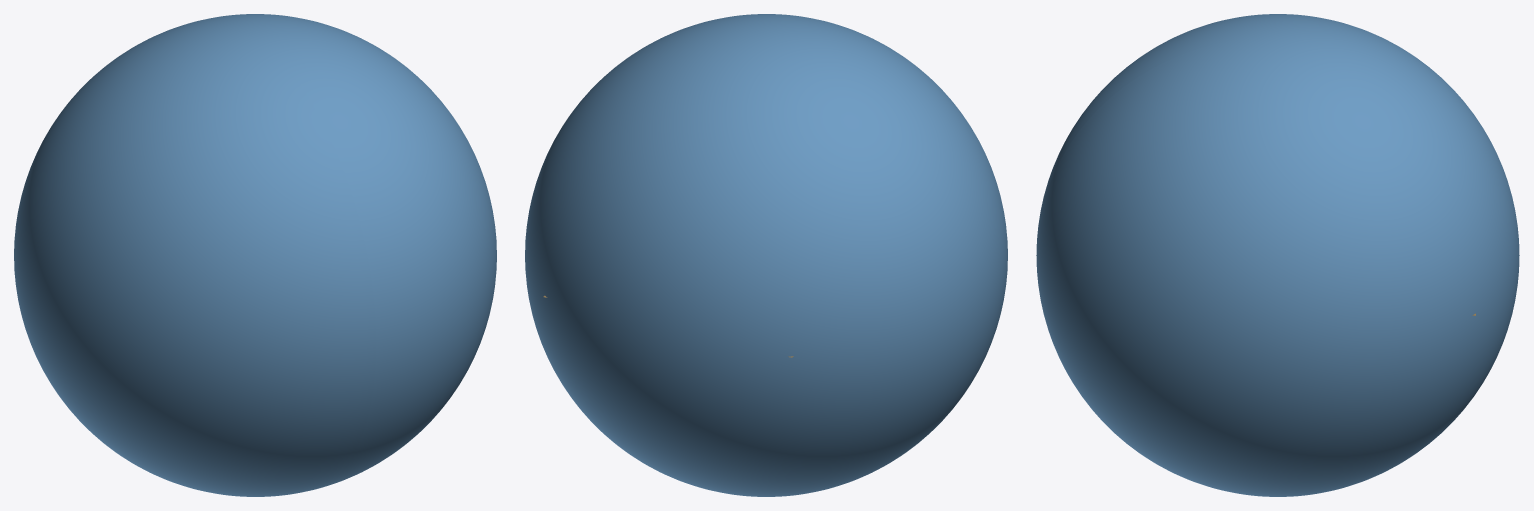
The model's file is Scene_WildernessCanyon_1.fbx.
3 renders of one model, left to right at view 1: azimuth 30°, elevation 25°; view 2: azimuth 150°, elevation 25°; view 3: azimuth 270°, elevation 25°, orthographic.
Parts seen in each view (by area): view 1: Sky_Dome; view 2: Sky_Dome; view 3: Sky_Dome.
Part boxes in pixels (left/top/right/bottom): Sky_Dome: left=14, top=14, right=496, bottom=496; Sky_Dome: left=525, top=14, right=1007, bottom=496; Sky_Dome: left=1036, top=14, right=1519, bottom=496.
Bounding box in the file's own units: 37600 × 37600 × 37600.
